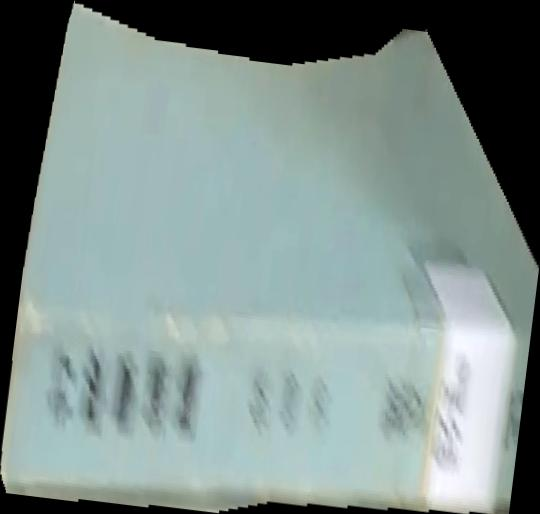flat: (1, 1, 540, 514)
